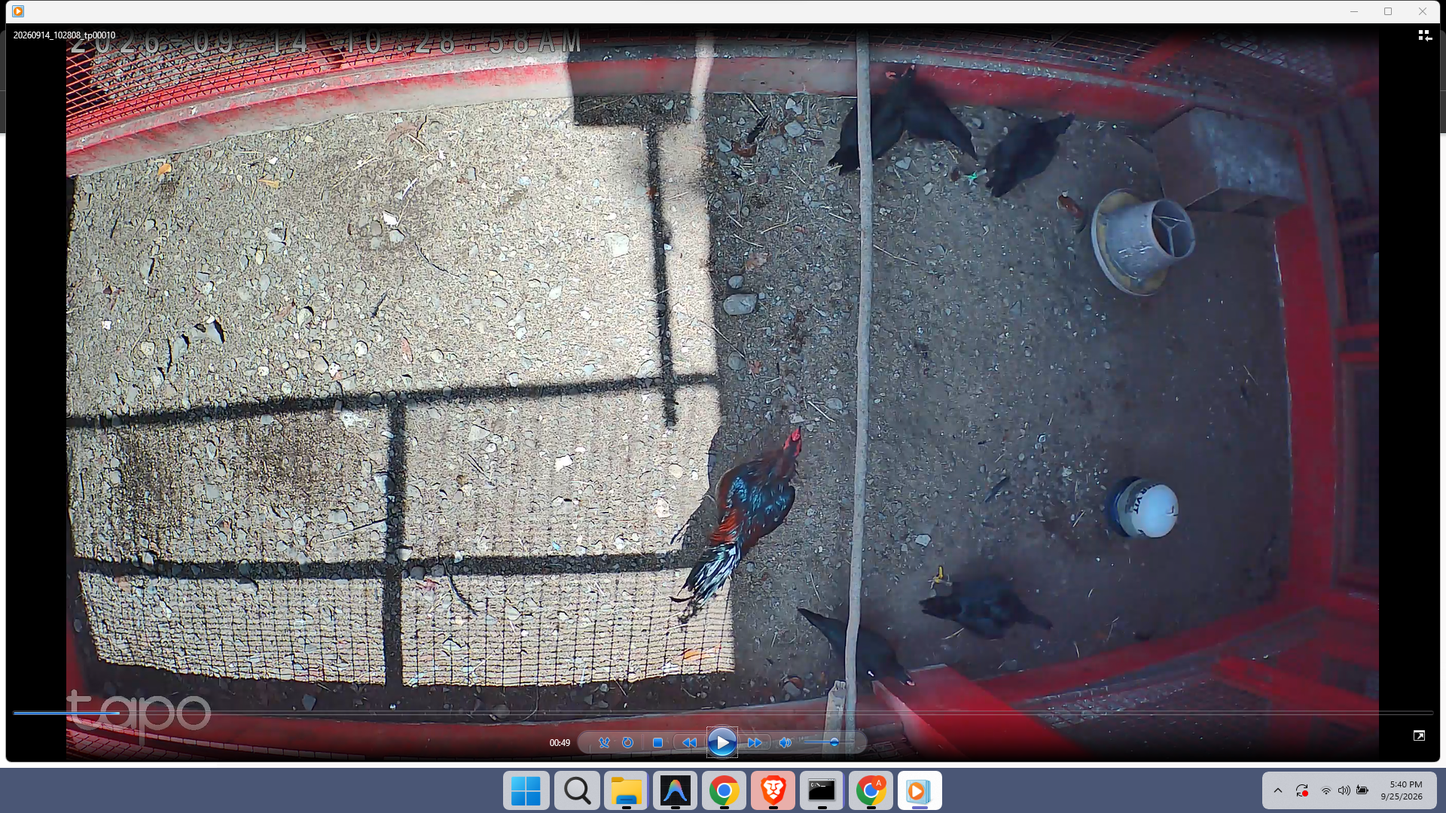Chicken: (793, 602, 921, 695), (826, 63, 920, 176), (962, 106, 1078, 197), (917, 566, 1055, 641), (882, 68, 984, 160)
Drinker: (1106, 473, 1181, 539)
Feeder: (1092, 185, 1198, 297)
Leg_Band_Green: (965, 170, 979, 179)
Leg_Band_Yellow: (933, 564, 944, 586)
Rooster: (672, 420, 805, 612)
